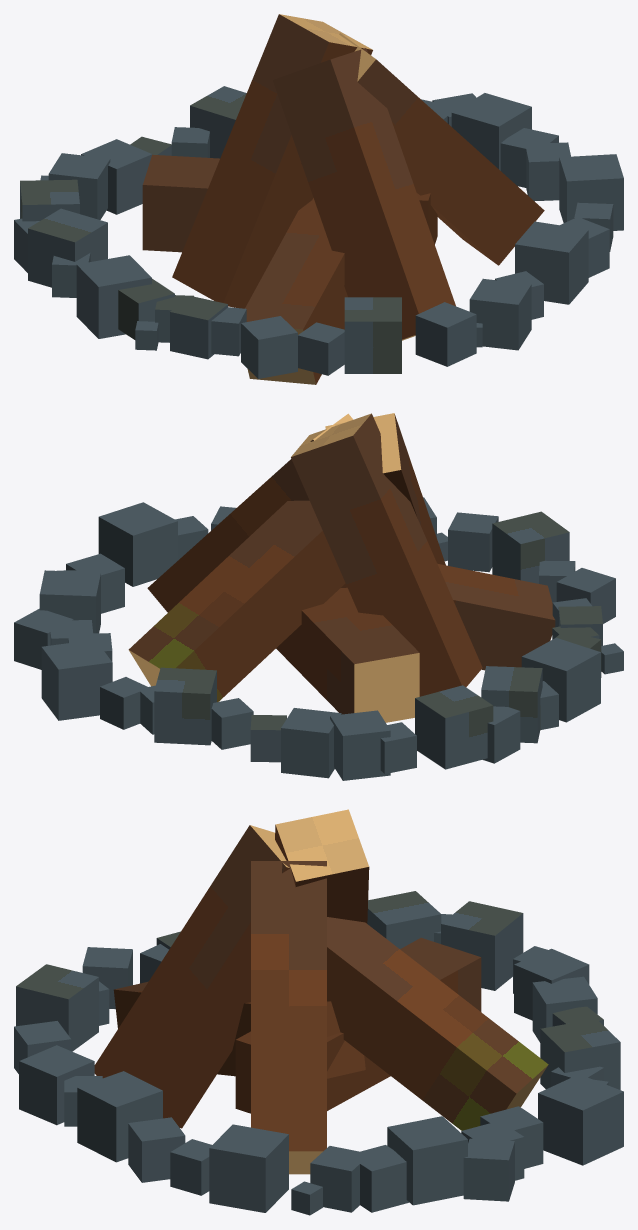
File: campfire.fbx
3 views of the same model, one above another, from view 1: azimuth 30°, elevation 25°; view 2: azimuth 150°, elevation 25°; view 3: azimuth 270°, elevation 25° (orthographic). The views are drawn at different scales.
Parts seen in each view (by area): view 1: cube_3, cube_2, cube, cube_5, cube_1, cube_13, cube_31, cube_14, cube_42, cube_16, cube_29, cube_10 (+21 smaller); view 2: cube_2, cube_4, cube_1, cube_5, cube, cube_15, cube_16, cube_8, cube_21, cube_31, cube_42, cube_36 (+21 smaller); view 3: cube_4, cube_3, cube, cube_2, cube_8, cube_16, cube_1, cube_13, cube_10, cube_31, cube_15, cube_21 (+19 smaller).
Part boxes in pixels (left/top/right/bottom): cube_3: left=272, top=48, right=455, bottom=340; cube_2: left=172, top=14, right=372, bottom=308; cube: left=339, top=33, right=544, bottom=265; cube_5: left=245, top=198, right=347, bottom=384; cube_1: left=142, top=154, right=437, bottom=252; cube_13: left=515, top=221, right=588, bottom=304; cube_31: left=344, top=297, right=401, bottom=373; cube_14: left=28, top=208, right=107, bottom=287; cube_42: left=76, top=255, right=151, bottom=338; cube_16: left=559, top=154, right=623, bottom=230; cube_29: left=469, top=278, right=531, bottom=350; cube_10: left=451, top=93, right=531, bottom=170; cube_2: left=291, top=413, right=482, bottom=696; cube_4: left=128, top=500, right=345, bottom=702; cube_1: left=276, top=587, right=419, bottom=722; cube_5: left=341, top=563, right=555, bottom=670; cube: left=147, top=413, right=353, bottom=612; cube_15: left=415, top=685, right=493, bottom=769; cube_16: left=98, top=502, right=177, bottom=586; cube_8: left=41, top=639, right=112, bottom=720; cube_21: left=154, top=667, right=216, bottom=745; cube_31: left=492, top=511, right=569, bottom=583; cube_42: left=521, top=637, right=600, bottom=722; cube_36: left=281, top=708, right=341, bottom=778; cube_4: left=327, top=917, right=548, bottom=1130; cube_3: left=94, top=825, right=289, bottom=1128; cube: left=251, top=861, right=326, bottom=1174; cube_2: left=275, top=809, right=369, bottom=923; cube_8: left=538, top=1074, right=623, bottom=1165; cube_16: left=209, top=1124, right=288, bottom=1212; cube_1: left=235, top=937, right=481, bottom=1113; cube_13: left=77, top=1071, right=162, bottom=1162; cube_10: left=387, top=1116, right=467, bottom=1205; cube_31: left=16, top=964, right=98, bottom=1051; cube_15: left=441, top=901, right=523, bottom=990; cube_21: left=540, top=1018, right=620, bottom=1089.
Bounding box in the file's own units: 105 × 53.78 × 100.
Materials: 2 (2 with a texture image).
